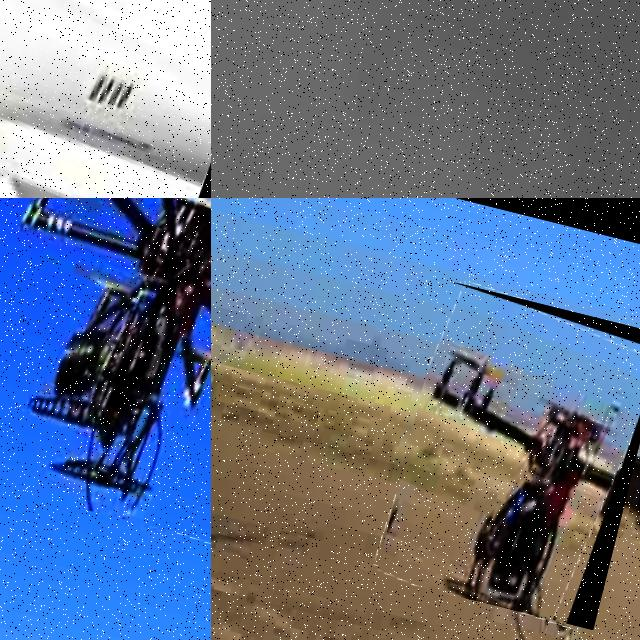0: (375, 280, 640, 630), (0, 198, 211, 562)
drone: (0, 0, 211, 198)
